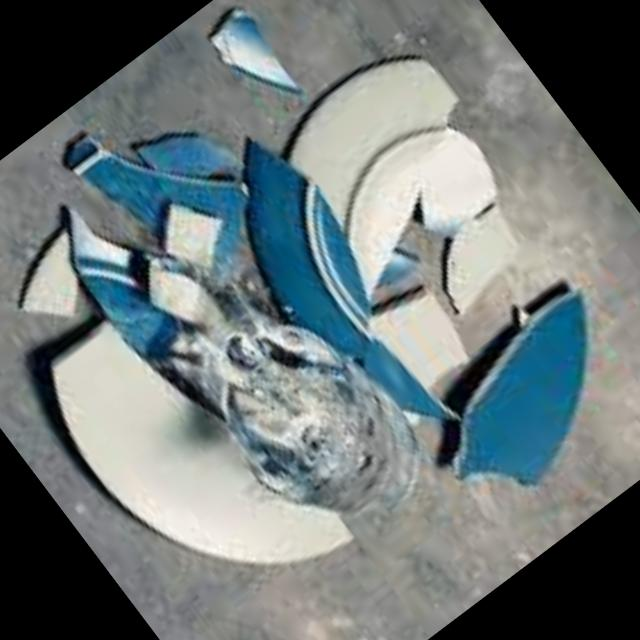PecahanKaca: (0, 0, 640, 640), (34, 116, 478, 620)
